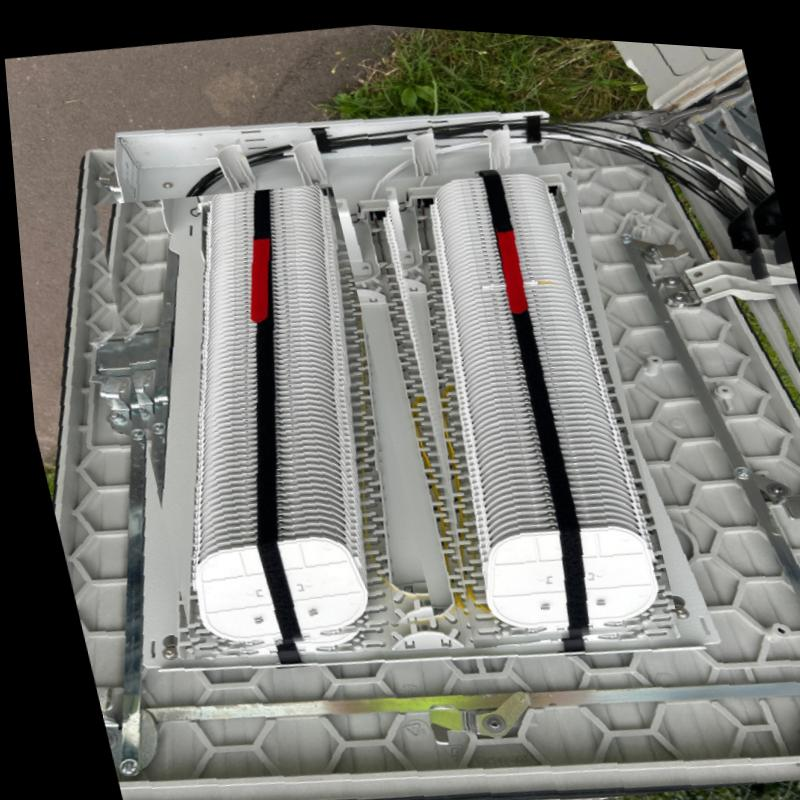NT-Gehause: (46, 33, 800, 800)
Spleiskassetten: (418, 161, 669, 637), (183, 179, 387, 653)
